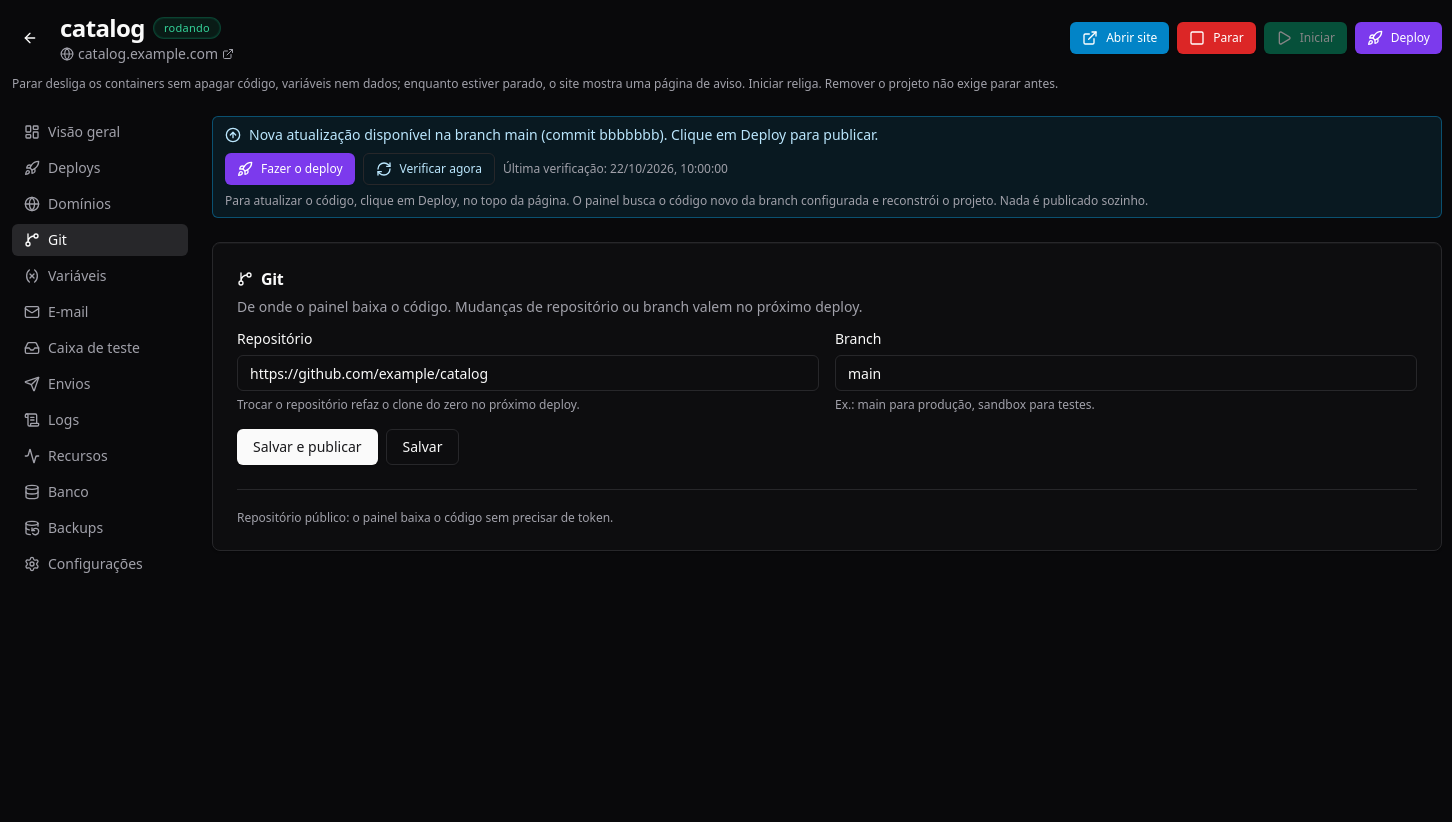
página do projeto — aba Git › Verificar agora que falha mostra 'não deu para verificar', não 'atualizado'
The width and height of the screenshot is (1452, 822).
What coordinates should you click on to do the following:
click the button "Verificar agora"
I would click on:
 (429, 169)
Its box is 363,153 -> 495,185.
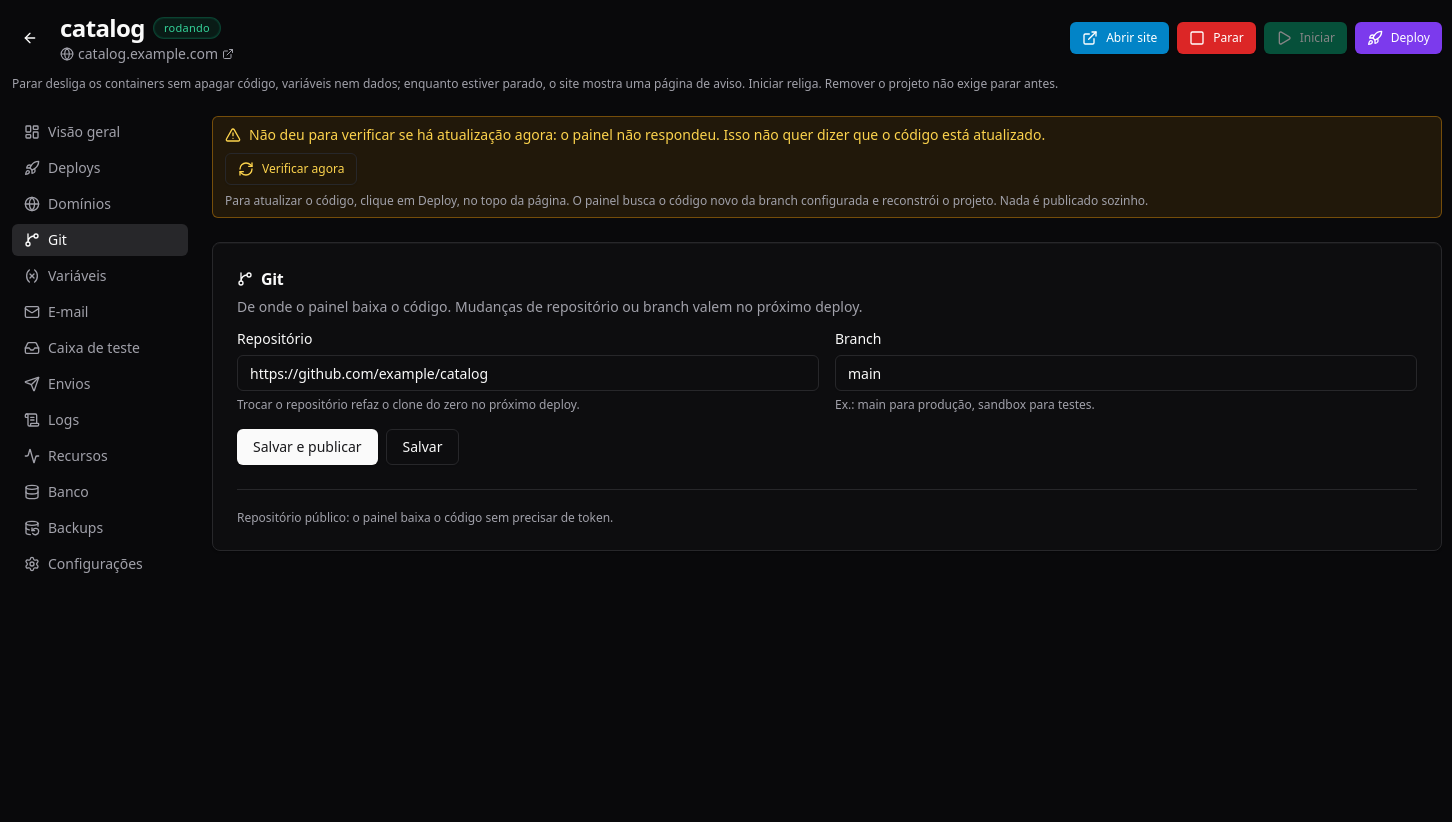
Now the element with test id "update-notice-git" shows "Não deu para verificar", box 249,125 -> 1045,144
